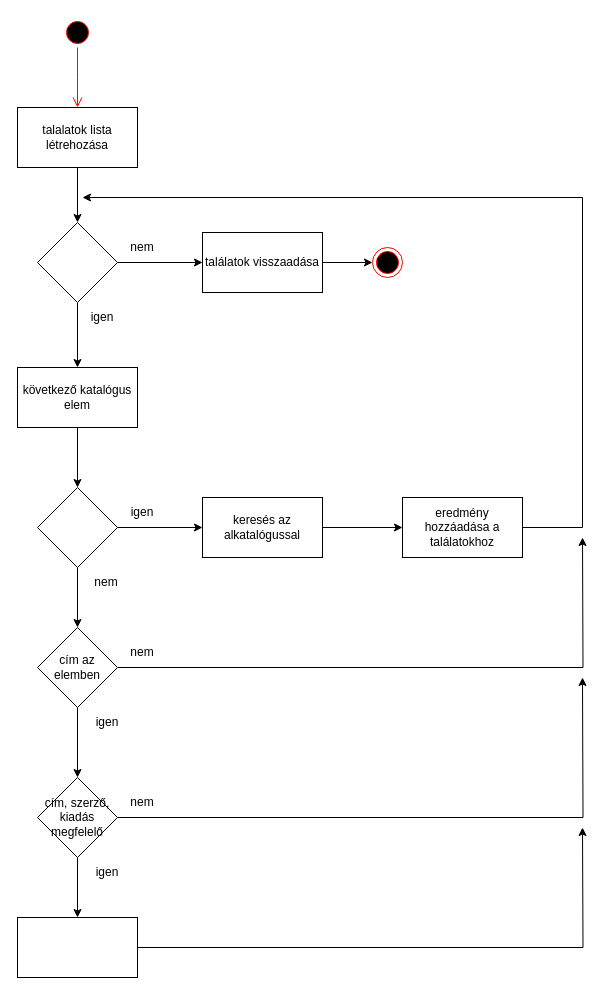
Some shapes in this 609 by 995 pixel diagram are drawn without their labels. Here are the shapes that lost their labels. From the top down, the centre of each, then its label:
point (77, 262): van még katalógus elem?
point (77, 527): katalógus az elemben
point (77, 947): elem hozzáadása a találatokhoz
